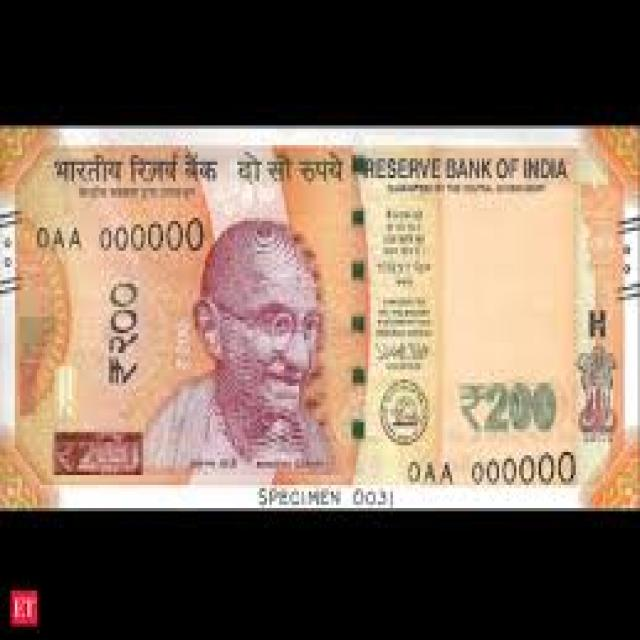200rs: (0, 130, 640, 497)
